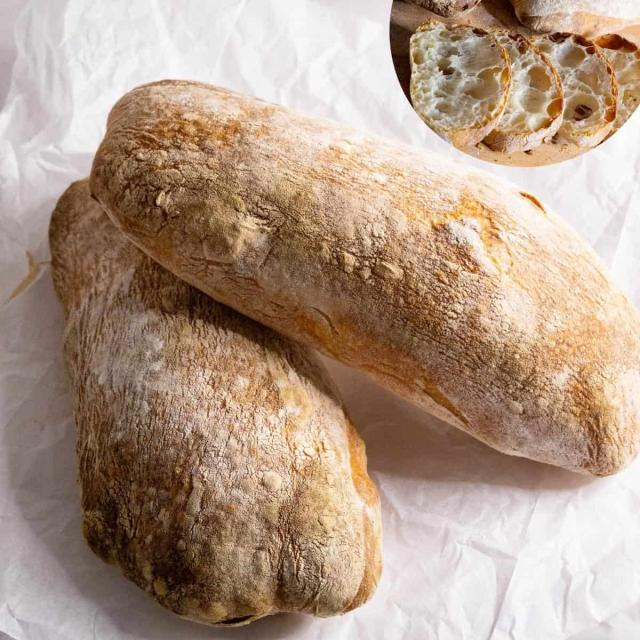Ciabatta: (86, 80, 639, 476), (49, 178, 381, 626)
